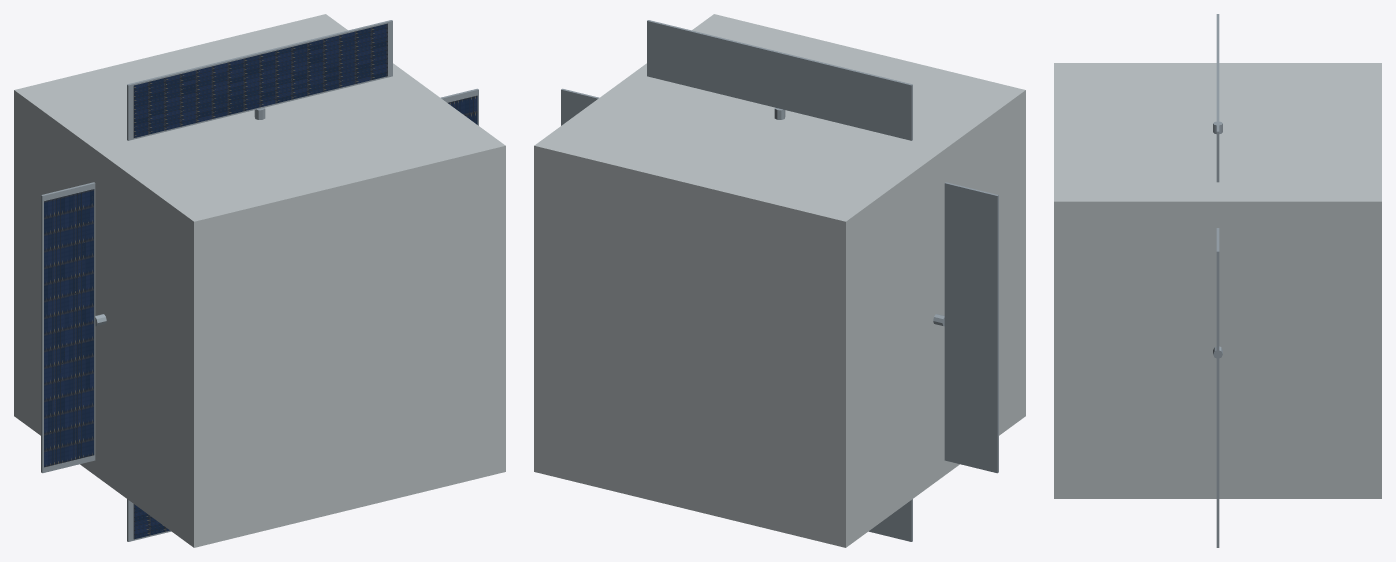
File: ref-ms-2-8-37794.glb
3 views of the same model, side by side, from view 1: azimuth 30°, elevation 25°; view 2: azimuth 150°, elevation 25°; view 3: azimuth 270°, elevation 25° (orthographic). The views are drawn at different scales.
Visible parts, largest first — view 1: Spacecraft body, Photovoltaic laminates (×3), Array frame (×2); view 2: Spacecraft body, Array frame (×4); view 3: Spacecraft body, Array frame (×2).
Part boxes in pixels (<box>): Spacecraft body: <box>14,14,505,547</box>; Photovoltaic laminates (×3): <box>44,23,387,539</box>; Array frame (×2): <box>41,20,392,473</box>; Spacecraft body: <box>534,14,1025,547</box>; Array frame (×4): <box>561,20,998,541</box>; Spacecraft body: <box>1054,63,1381,498</box>; Array frame (×2): <box>1216,14,1219,504</box>.
Size of the model in its own units: 1.4 by 1.4 by 1.
Materials: 3 (1 with a texture image).
